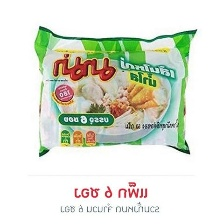snack: (26, 21, 207, 161)
